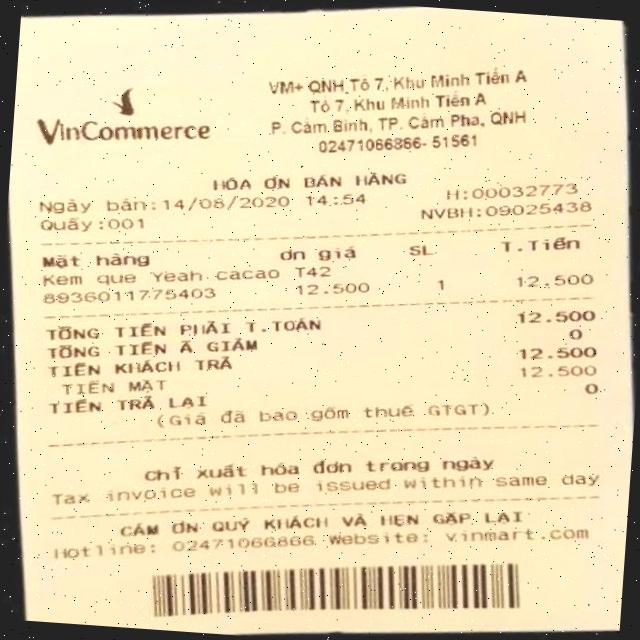Date: (158, 182, 293, 224)
Store_Name: (15, 69, 224, 172)
amount_number: (504, 296, 606, 332)
label_total: (38, 296, 325, 366)
